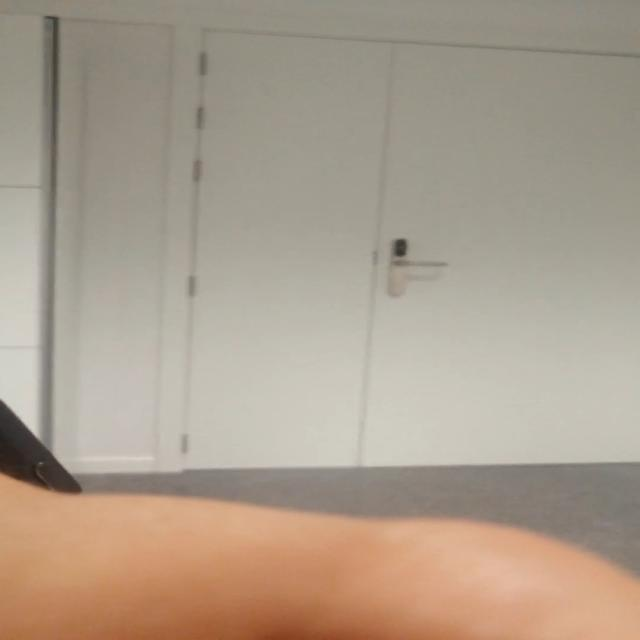door_handle: (387, 256, 455, 271)
